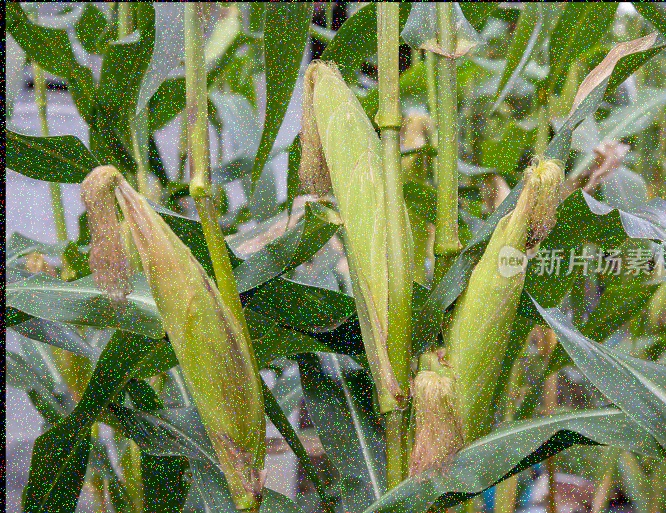corn_plant: (68, 160, 266, 500), (419, 149, 562, 473), (293, 64, 415, 411)
